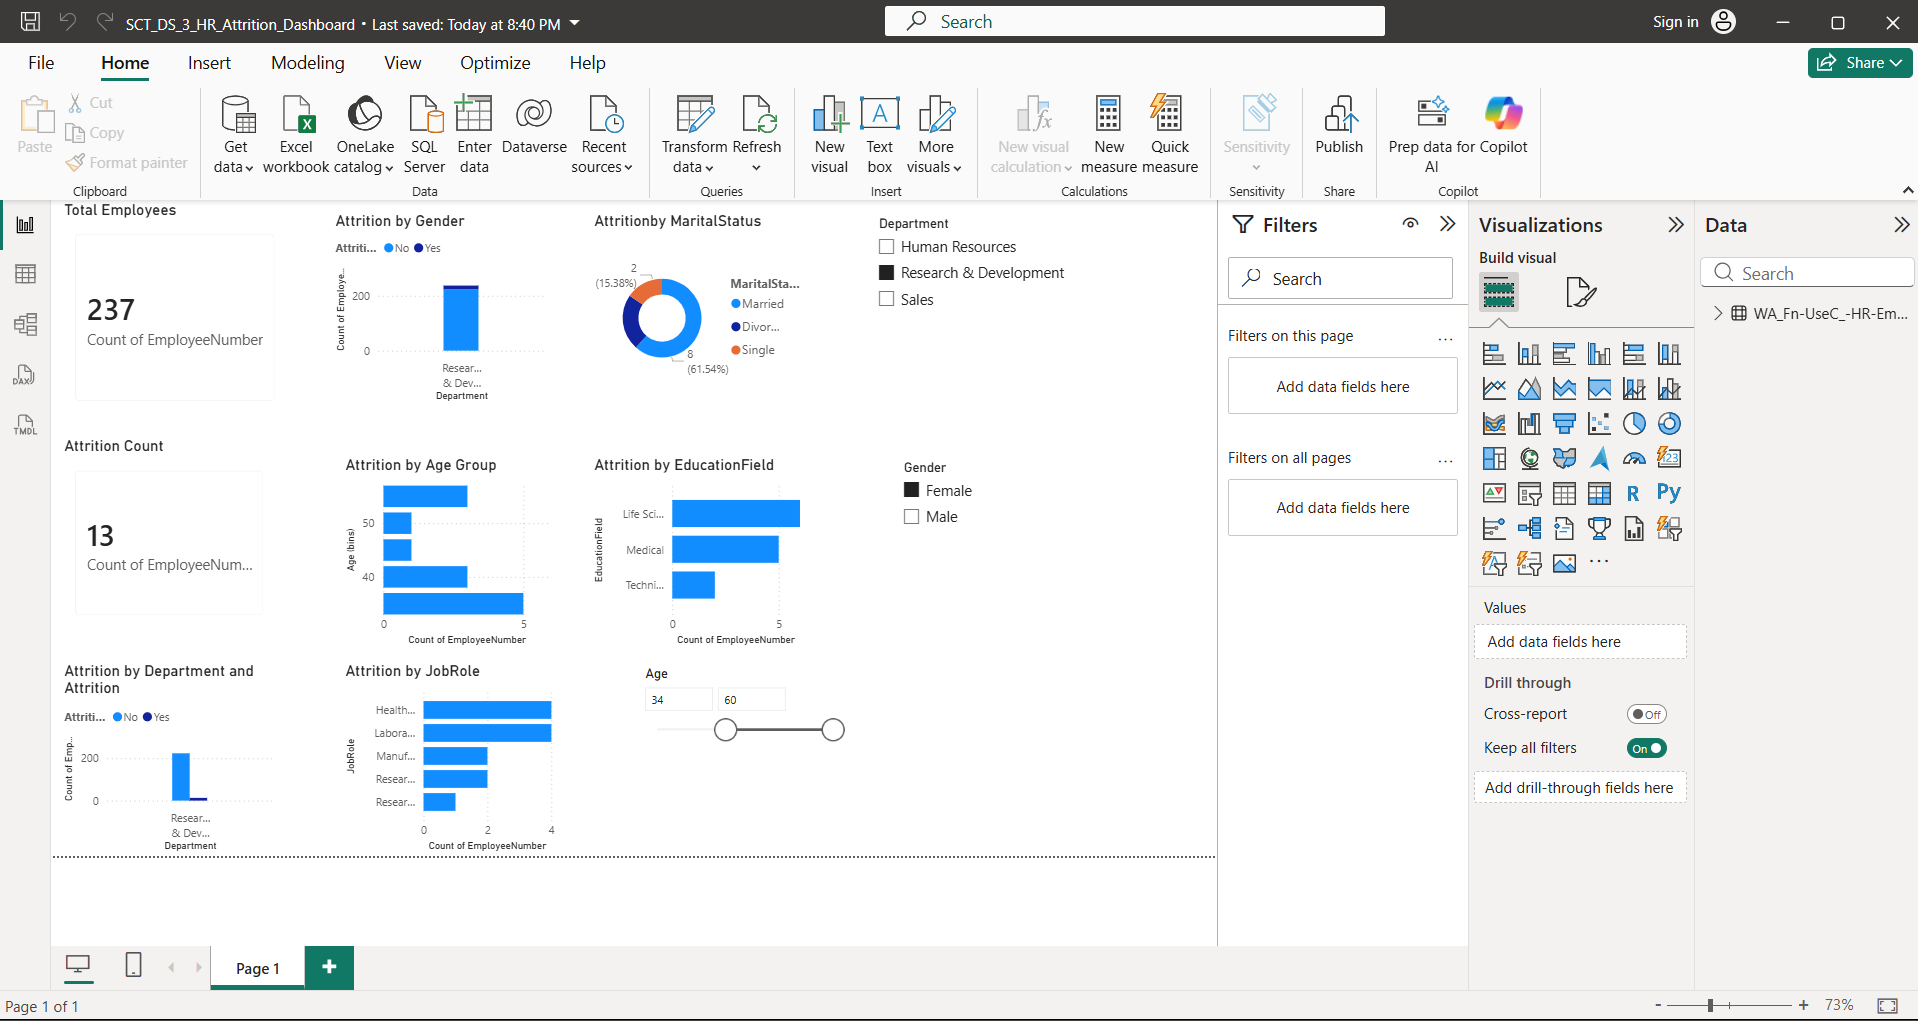

This screenshot's page, from the dashboard's own definition file:
{"tool":"powerbi","page":{"name":"Page 1","canvas":[1280,720],"ordinal":0},"visuals":[{"type":"cardVisual","title":"Total Employees","fields":{"Data":["Count(WA_Fn-UseC_-HR-Employee-Attrition.EmployeeNumber)"]},"box":[9.6,0,253.9,238.8],"z":0},{"type":"cardVisual","title":"Attrition Count","fields":{"Data":["Count(WA_Fn-UseC_-HR-Employee-Attrition.EmployeeNumber)"]},"box":[9.6,259.3,240.1,214.1],"z":1000},{"type":"columnChart","title":"Attrition by Gender","fields":{"Category":["WA_Fn-UseC_-HR-Employee-Attrition.Department"],"Y":["Count(WA_Fn-UseC_-HR-Employee-Attrition.EmployeeNumber)"],"Series":["WA_Fn-UseC_-HR-Employee-Attrition.Attrition"]},"box":[307.4,12.3,240.1,214.1],"z":2000},{"type":"clusteredBarChart","title":"Attrition by Age Group","fields":{"Category":["WA_Fn-UseC_-HR-Employee-Attrition.Age (bins)"],"Y":["Count(WA_Fn-UseC_-HR-Employee-Attrition.EmployeeNumber)"]},"box":[318.4,279.9,240.1,214.1],"z":3000},{"type":"clusteredBarChart","title":"Attrition by JobRole","fields":{"Category":["WA_Fn-UseC_-HR-Employee-Attrition.JobRole"],"Y":["Count(WA_Fn-UseC_-HR-Employee-Attrition.EmployeeNumber)"]},"box":[318.4,506.3,240.1,214.1],"z":4000},{"type":"donutChart","title":"Attritionby MaritalStatus","fields":{"Category":["WA_Fn-UseC_-HR-Employee-Attrition.MaritalStatus"],"Y":["Count(WA_Fn-UseC_-HR-Employee-Attrition.EmployeeNumber)"]},"box":[591.4,12.3,240.1,214.1],"z":5000},{"type":"clusteredColumnChart","title":"Attrition by Department and Attrition","fields":{"Category":["WA_Fn-UseC_-HR-Employee-Attrition.Department"],"Y":["Count(WA_Fn-UseC_-HR-Employee-Attrition.EmployeeNumber)"],"Series":["WA_Fn-UseC_-HR-Employee-Attrition.Attrition"]},"box":[10,506,240,214],"z":6000},{"type":"clusteredBarChart","title":"Attrition by EducationField","fields":{"Category":["WA_Fn-UseC_-HR-Employee-Attrition.EducationField"],"Y":["Count(WA_Fn-UseC_-HR-Employee-Attrition.EmployeeNumber)"]},"box":[591,280,240,214],"z":7000},{"type":"slicer","fields":{"Values":["WA_Fn-UseC_-HR-Employee-Attrition.Department"]},"box":[896.1,12.3,240.1,214.1],"z":8000},{"type":"slicer","fields":{"Values":["WA_Fn-UseC_-HR-Employee-Attrition.Gender"]},"box":[923.5,279.9,240.1,214.1],"z":9000},{"type":"slicer","fields":{"Values":["WA_Fn-UseC_-HR-Employee-Attrition.Age"]},"box":[639.5,506.3,240.1,214.1],"z":10000}]}

Visuals, with their boxes on the page's 1280x720 design canvas (x1, y1, x2, y2). These are canvas units, not pixel positions in the 1918x1021 screenshot, which may show the page scaled, cropped or inside an application window:
"Total Employees" cardVisual: select_region(10, 0, 264, 239)
"Attrition Count" cardVisual: select_region(10, 259, 250, 473)
"Attrition by Gender" columnChart: select_region(307, 12, 548, 226)
"Attrition by Age Group" clusteredBarChart: select_region(318, 280, 558, 494)
"Attrition by JobRole" clusteredBarChart: select_region(318, 506, 558, 720)
"Attritionby MaritalStatus" donutChart: select_region(591, 12, 832, 226)
"Attrition by Department and Attrition" clusteredColumnChart: select_region(10, 506, 250, 720)
"Attrition by EducationField" clusteredBarChart: select_region(591, 280, 831, 494)
slicer - WA_Fn-UseC_-HR-Employee-Attrition.Department: select_region(896, 12, 1136, 226)
slicer - WA_Fn-UseC_-HR-Employee-Attrition.Gender: select_region(924, 280, 1164, 494)
slicer - WA_Fn-UseC_-HR-Employee-Attrition.Age: select_region(640, 506, 880, 720)
